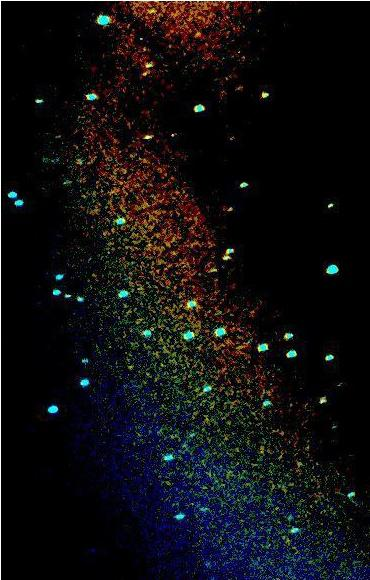star: (214, 195, 244, 225)
